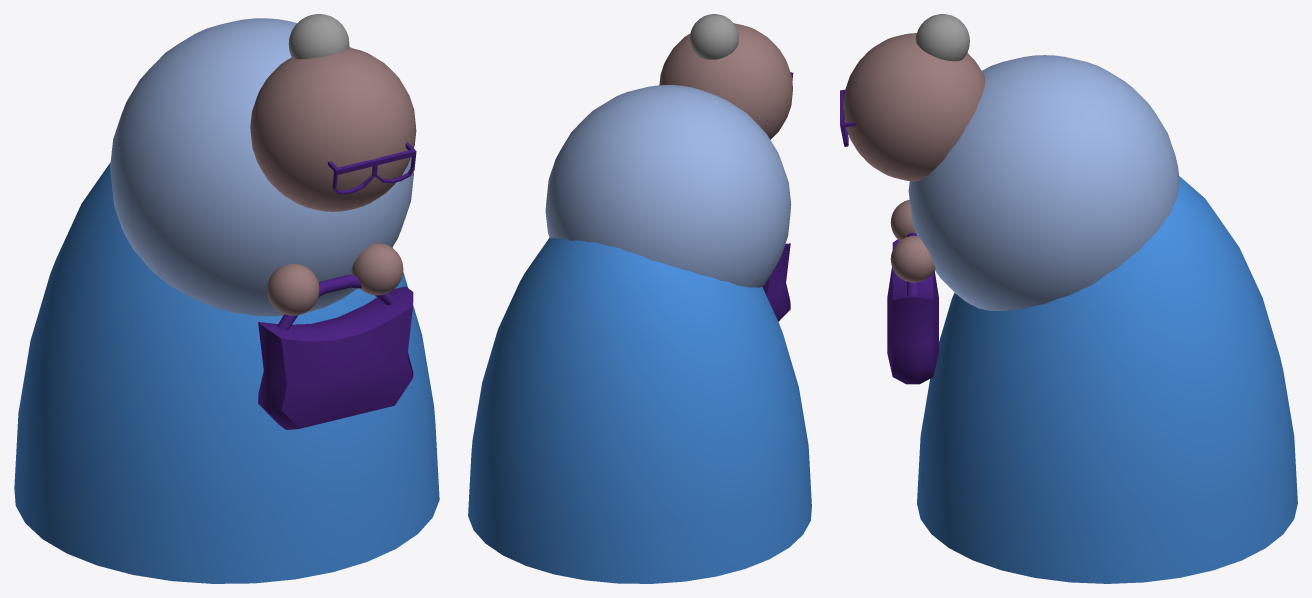
File: Granny.fbx
3 renders of one model, left to right at view 1: azimuth 30°, elevation 25°; view 2: azimuth 150°, elevation 25°; view 3: azimuth 270°, elevation 25°, orthographic. The views are drawn at different scales.
Visible parts, largest first — view 1: Sphere001, Sphere002, Sphere003, Box001, Sphere006, Sphere004, Sphere005, Box002, Cylinder001; view 2: Sphere001, Sphere002, Sphere003, Sphere006, Box001; view 3: Sphere001, Sphere002, Sphere003, Box001, Sphere006, Sphere005, Sphere004.
Part boxes in pixels (<box>): Sphere001: <box>14,162,439,583</box>; Sphere002: <box>110,18,413,316</box>; Sphere003: <box>250,47,416,211</box>; Box001: <box>258,286,413,429</box>; Sphere006: <box>288,14,349,59</box>; Sphere004: <box>267,263,319,315</box>; Sphere005: <box>351,243,403,295</box>; Box002: <box>327,142,416,194</box>; Cylinder001: <box>277,275,394,330</box>; Sphere001: <box>468,237,811,583</box>; Sphere002: <box>545,85,791,287</box>; Sphere003: <box>659,23,792,139</box>; Sphere006: <box>690,14,738,59</box>; Box001: <box>762,243,790,321</box>; Sphere001: <box>917,176,1297,583</box>; Sphere002: <box>908,55,1179,310</box>; Sphere003: <box>843,33,985,181</box>; Box001: <box>887,239,938,384</box>; Sphere006: <box>915,14,969,61</box>; Sphere005: <box>890,235,935,282</box>; Sphere004: <box>890,200,916,240</box>.
Bounding box in the file's own units: 55.12 × 77.73 × 66.24.
